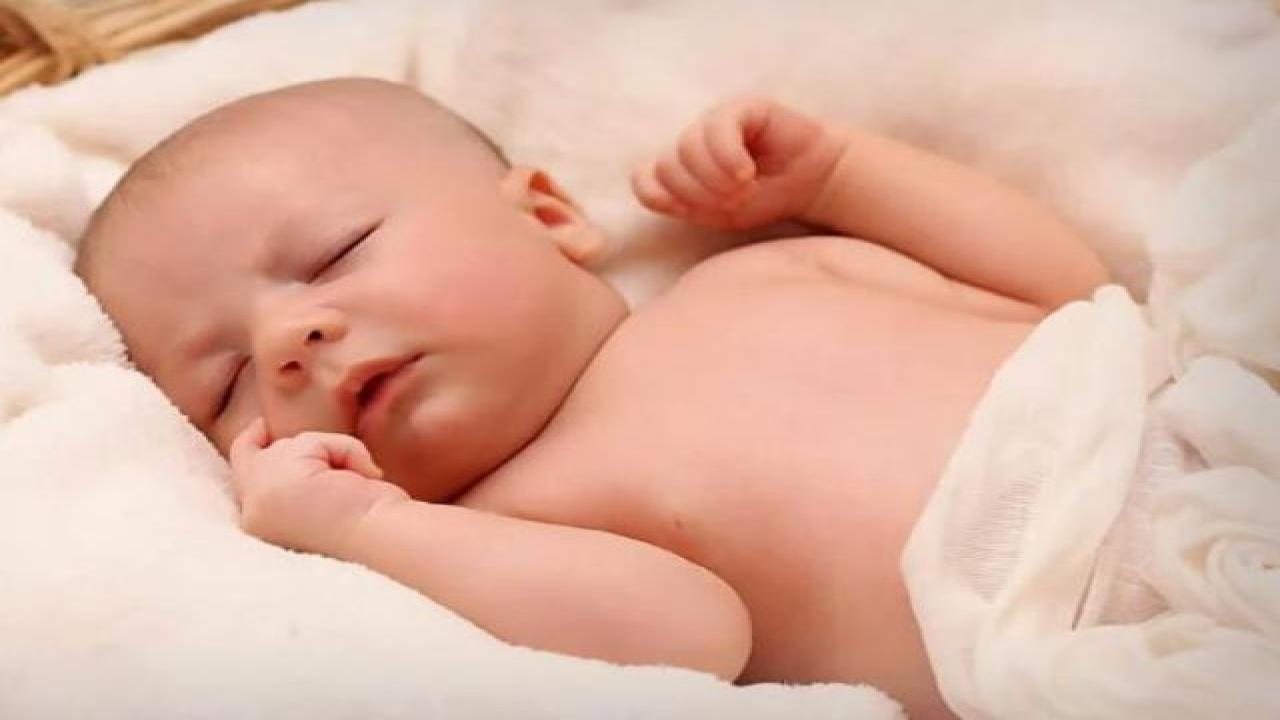hand: (627, 97, 855, 235), (218, 421, 387, 571)
